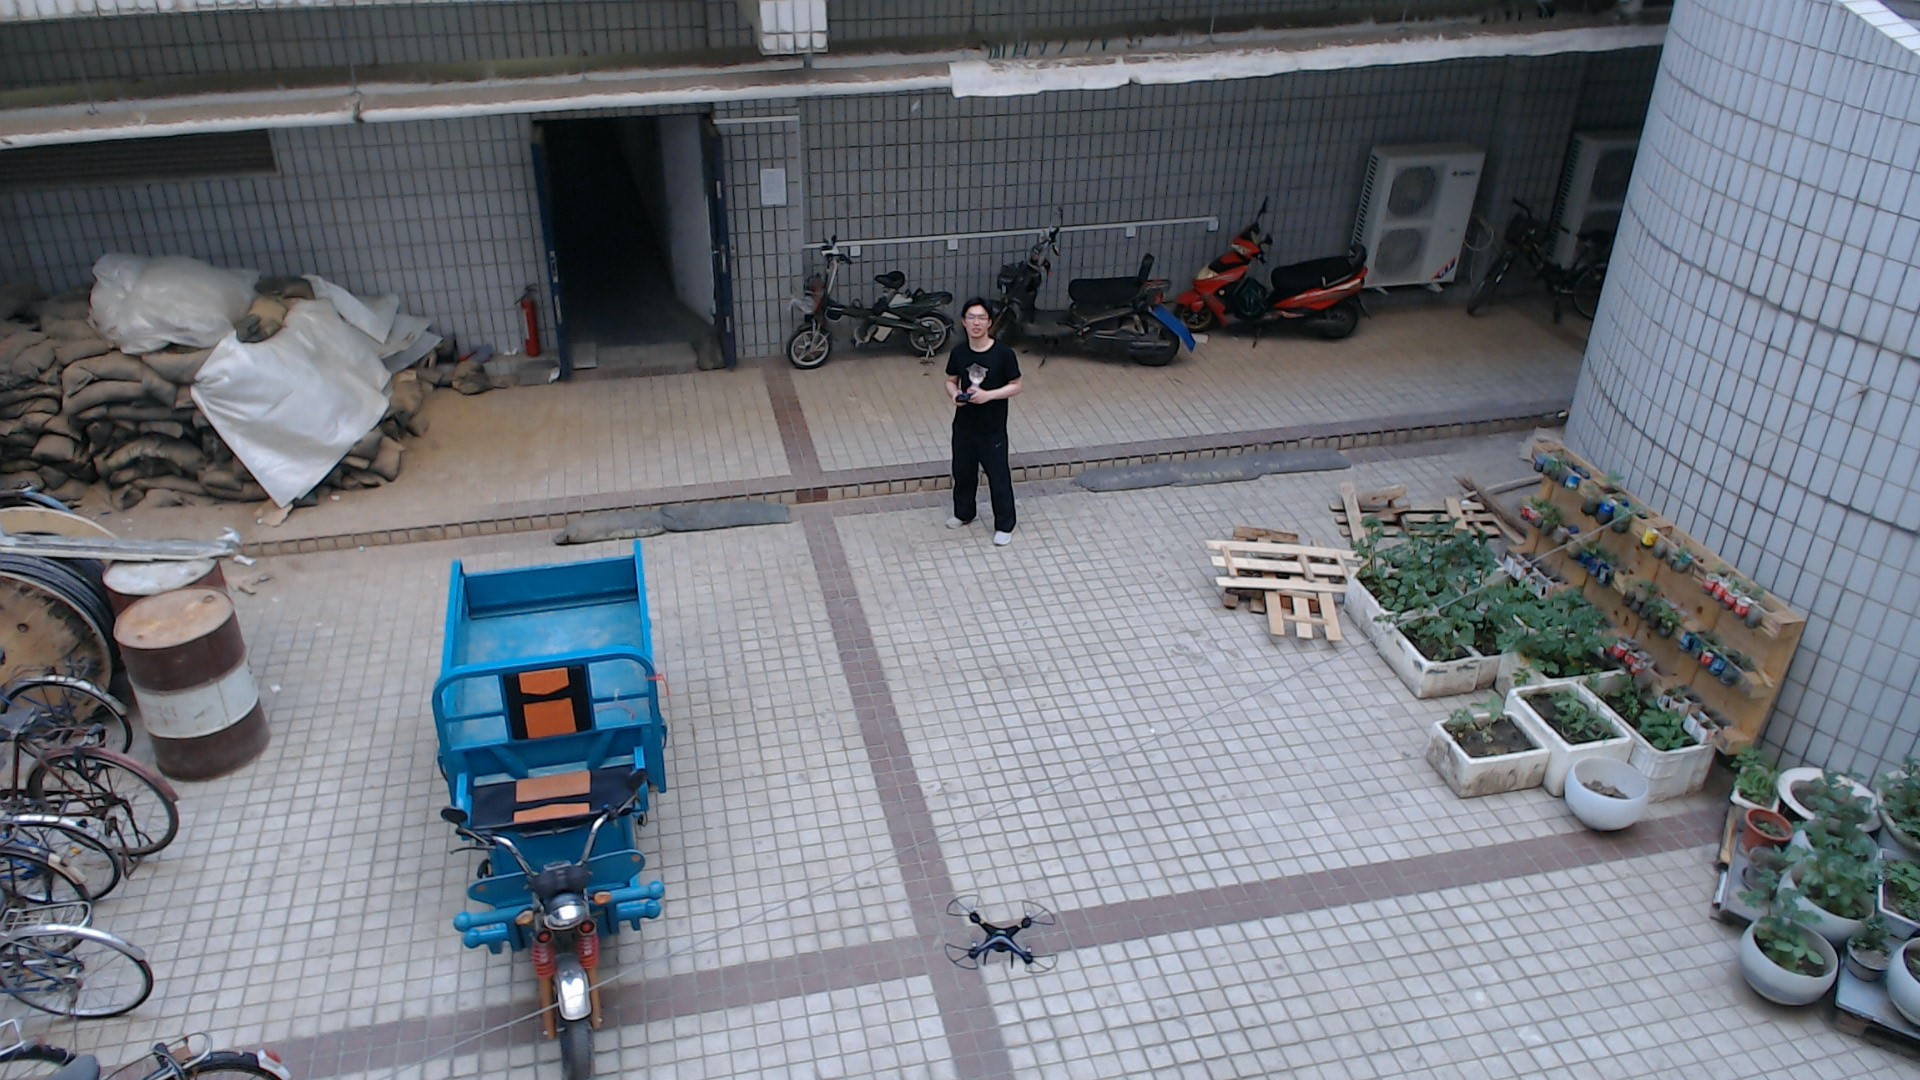drone: (928, 876, 1075, 989)
person: (911, 299, 1049, 557)
